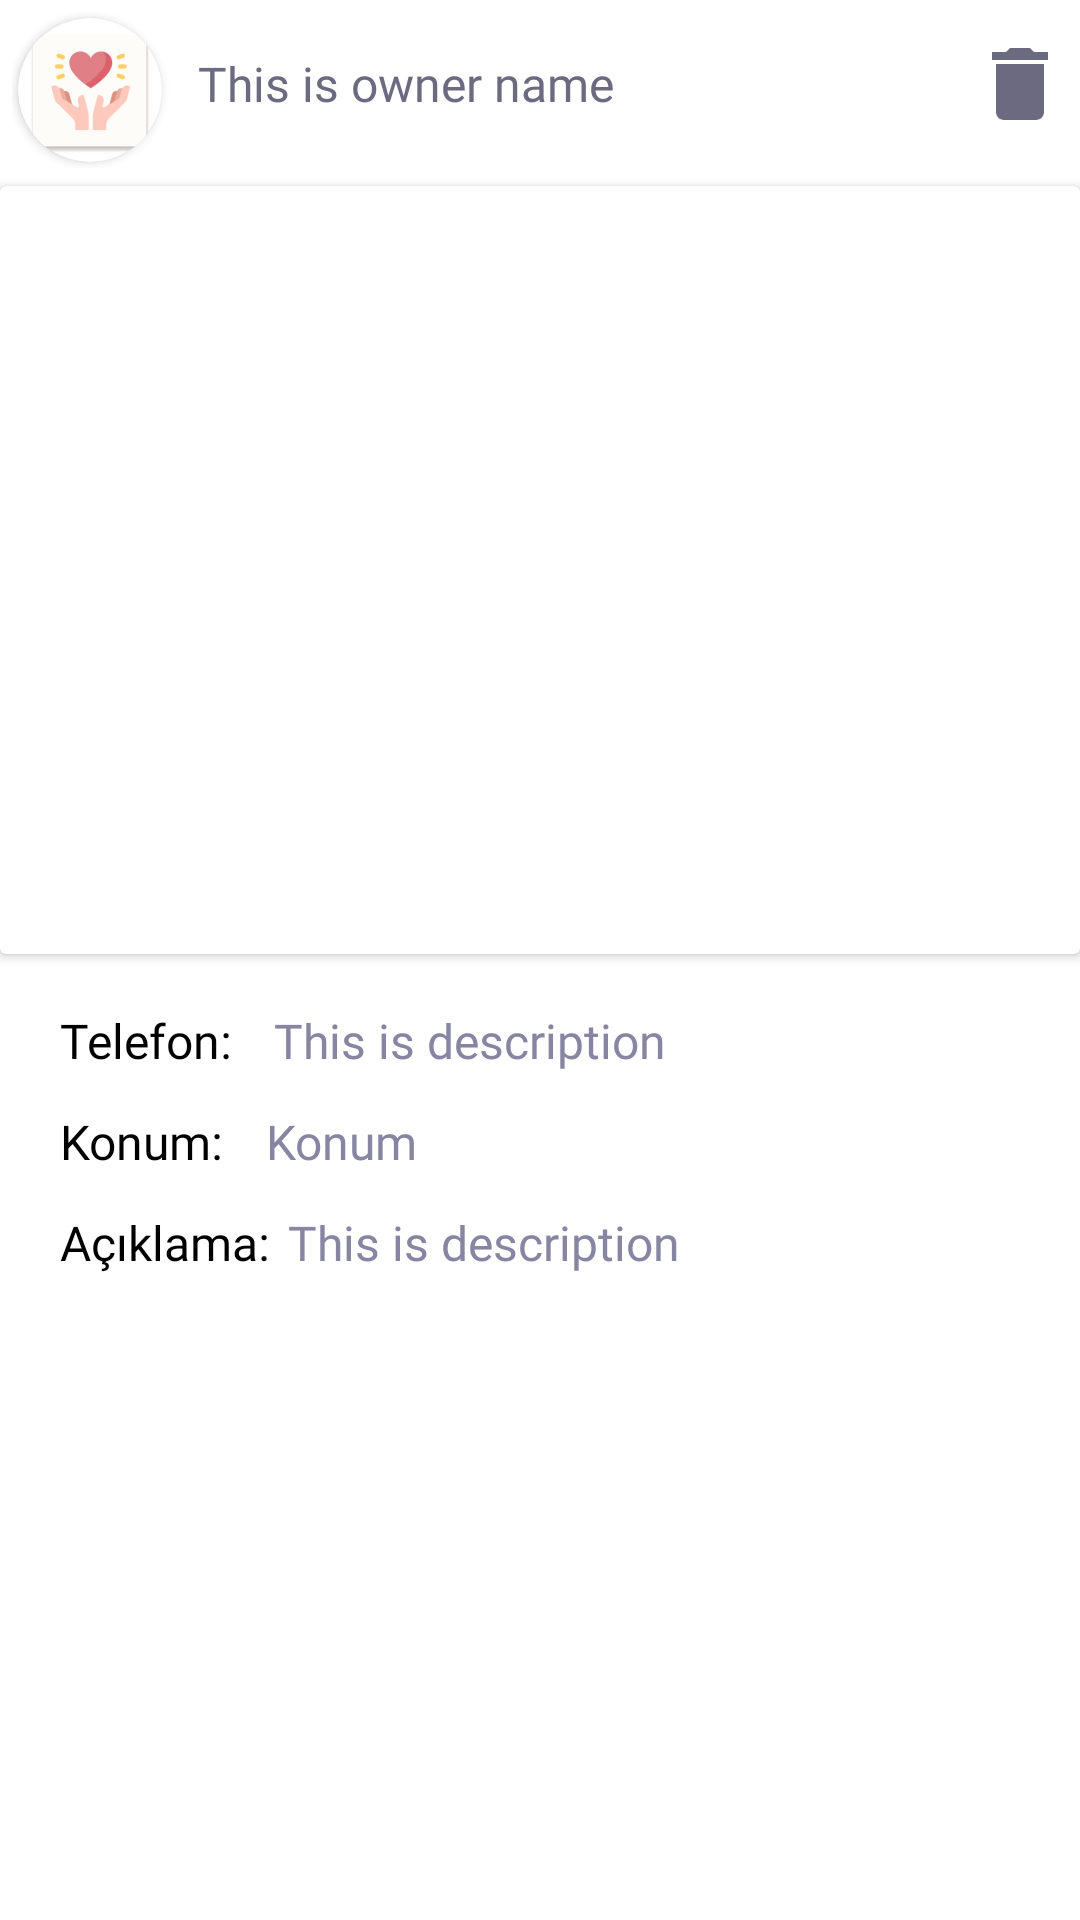

Where to tap for icons on this 1080 x 1920 app screen, as (x=x, y=y):
delete: (x=1020, y=84)
